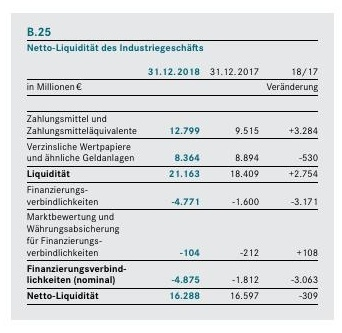table: (0, 0, 342, 333)
